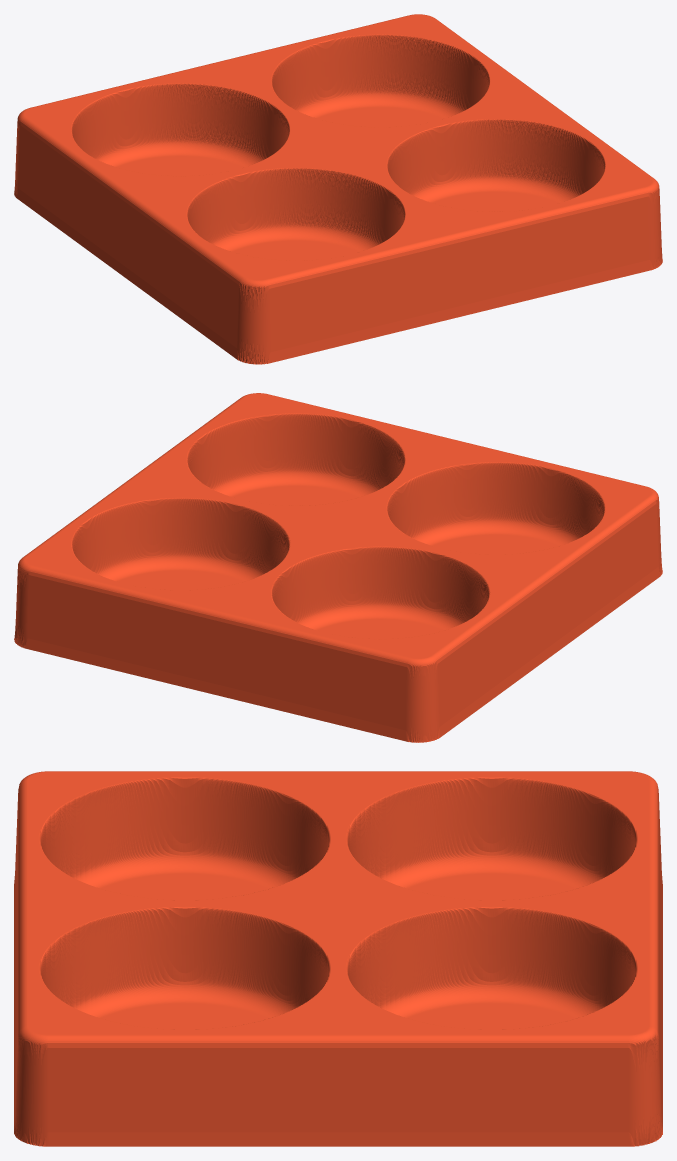
Rendered from mold.glb.
3 renders of one model, top to bottom at view 1: azimuth 30°, elevation 25°; view 2: azimuth 150°, elevation 25°; view 3: azimuth 270°, elevation 25°, orthographic. The views are drawn at different scales.
Parts seen in each view (by area): view 1: geometry_0; view 2: geometry_0; view 3: geometry_0.
Part boxes in pixels (box(x1,y1,x2,y2)): geometry_0: box(14, 14, 662, 364); geometry_0: box(14, 393, 662, 742); geometry_0: box(14, 771, 662, 1146).
Size of the model in its own units: 0.1721 by 0.031 by 0.1721.
